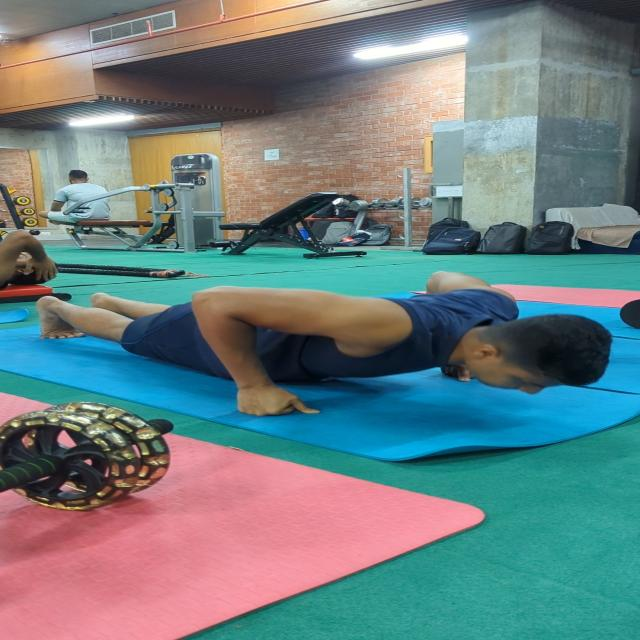Normal_PushUps: (27, 285, 619, 422)
